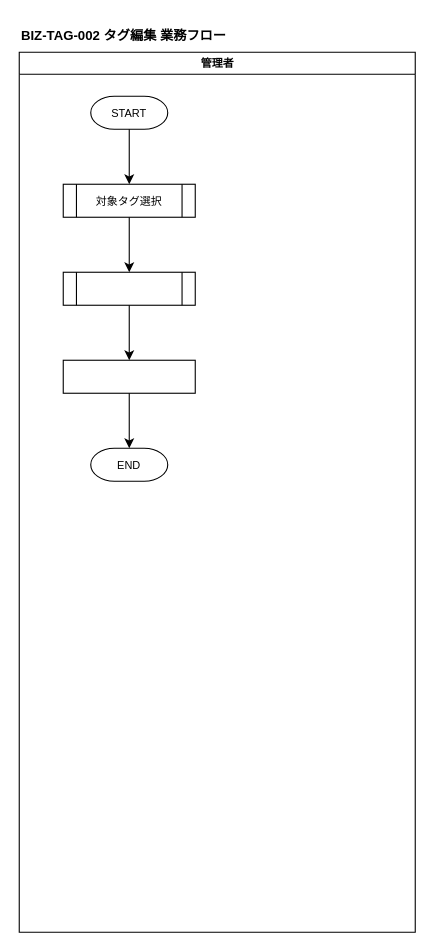
The diagram is 435 pixels wide and 952 high, and some of its shapes have lost their labels. The shapes that lost their labels are listed below. From the top down, each one's centre as x and y in pixels, then its label:
[128,288]: タグ編集
[128,376]: 編集結果確認
